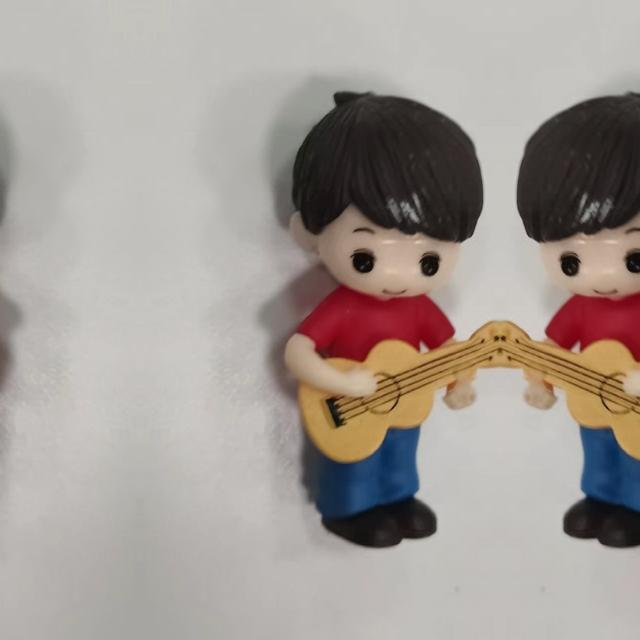man cloth: (296, 292, 457, 414), (543, 291, 640, 414)
man head: (286, 84, 488, 302), (512, 84, 640, 302)
trousers: (314, 422, 444, 548), (555, 421, 640, 548)
